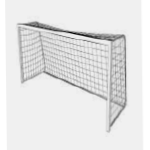goals: (16, 19, 130, 136)
